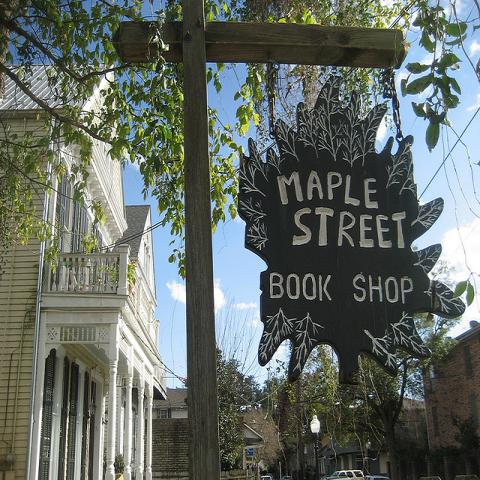car: (260, 475, 273, 479)
truck: (331, 470, 364, 480)
